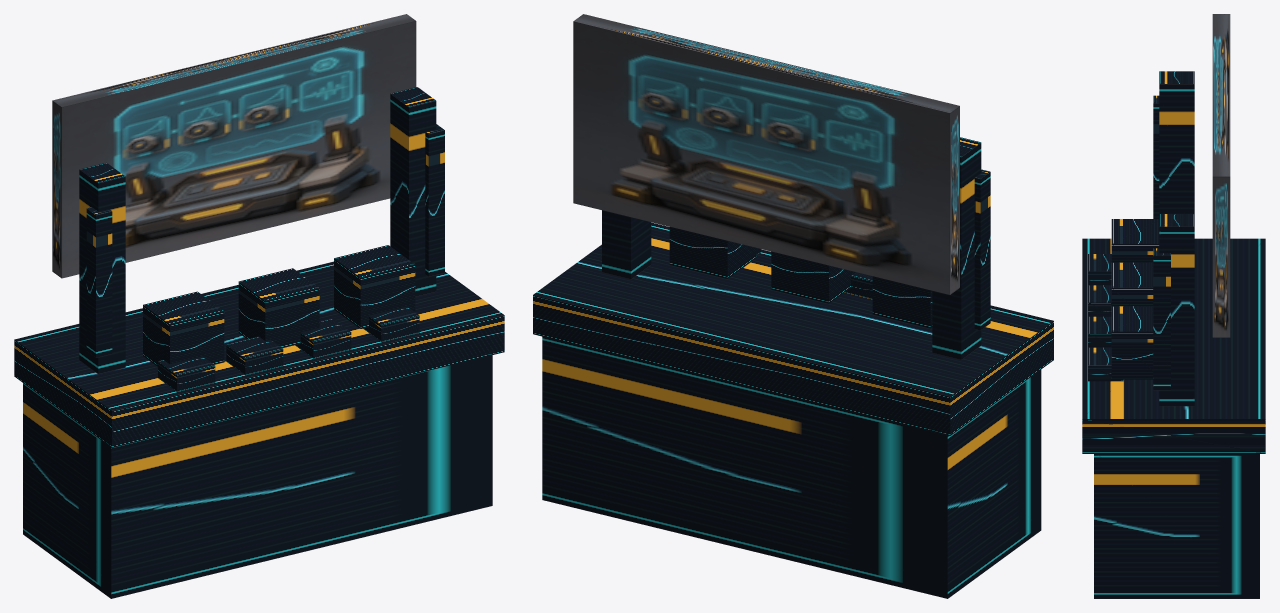
Rendered from Console_HoloTerminal.obj.
3 views of the same model, side by side, from view 1: azimuth 30°, elevation 25°; view 2: azimuth 150°, elevation 25°; view 3: azimuth 270°, elevation 25° (orthographic). The views are drawn at different scales.
Visible parts, largest first — view 1: Console_HoloTerminal; view 2: Console_HoloTerminal; view 3: Console_HoloTerminal.
Boxes of the visible parts, bbox=[...] form: Console_HoloTerminal: bbox=[14, 14, 504, 598]; Console_HoloTerminal: bbox=[533, 14, 1053, 598]; Console_HoloTerminal: bbox=[1082, 14, 1265, 598].
Bounding box in the file's own units: 1.44 × 1.55 × 0.62.
Materials: 1 (1 with a texture image).
